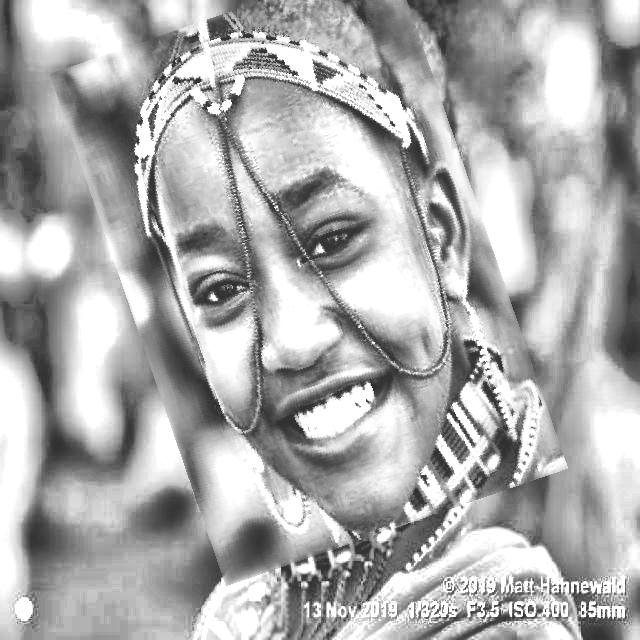happy: (89, 0, 528, 563)
